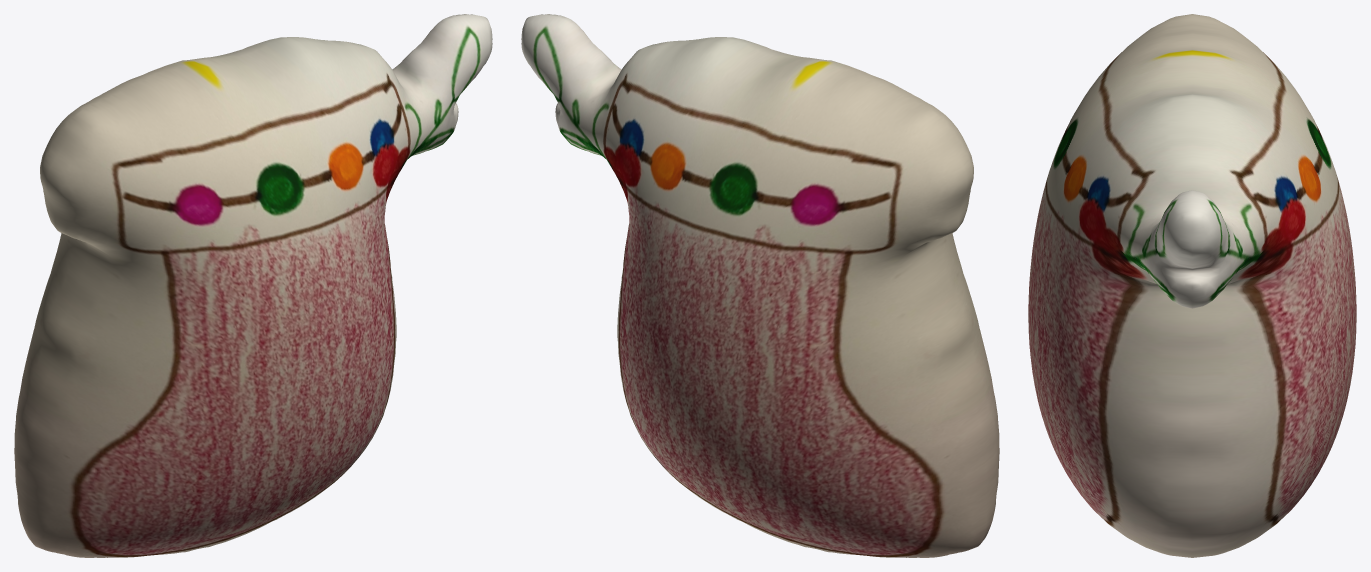
3 views of the same model, side by side, from view 1: azimuth 30°, elevation 25°; view 2: azimuth 150°, elevation 25°; view 3: azimuth 270°, elevation 25° (orthographic). The views are drawn at different scales.
Bounding box in the file's own units: 5.42 × 5.25 × 3.19.
1 material, 1 textured.
